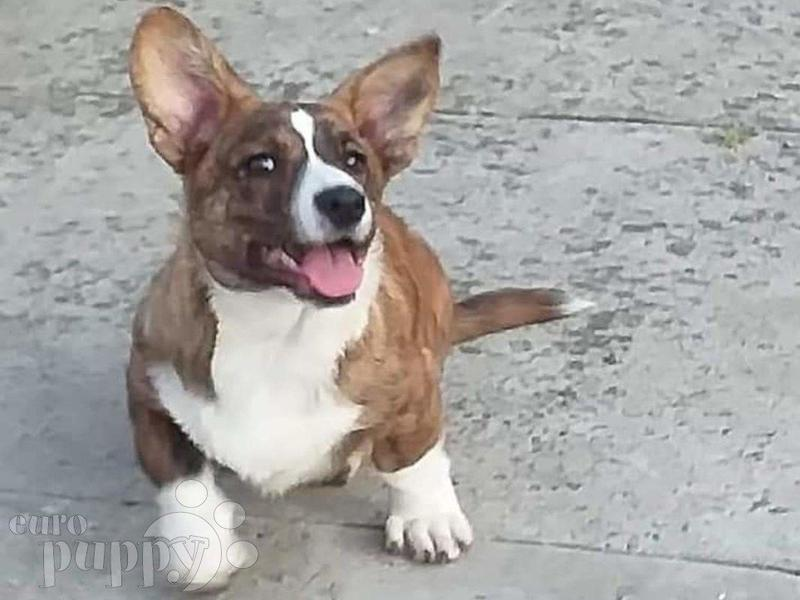corgi: (127, 8, 450, 301)
